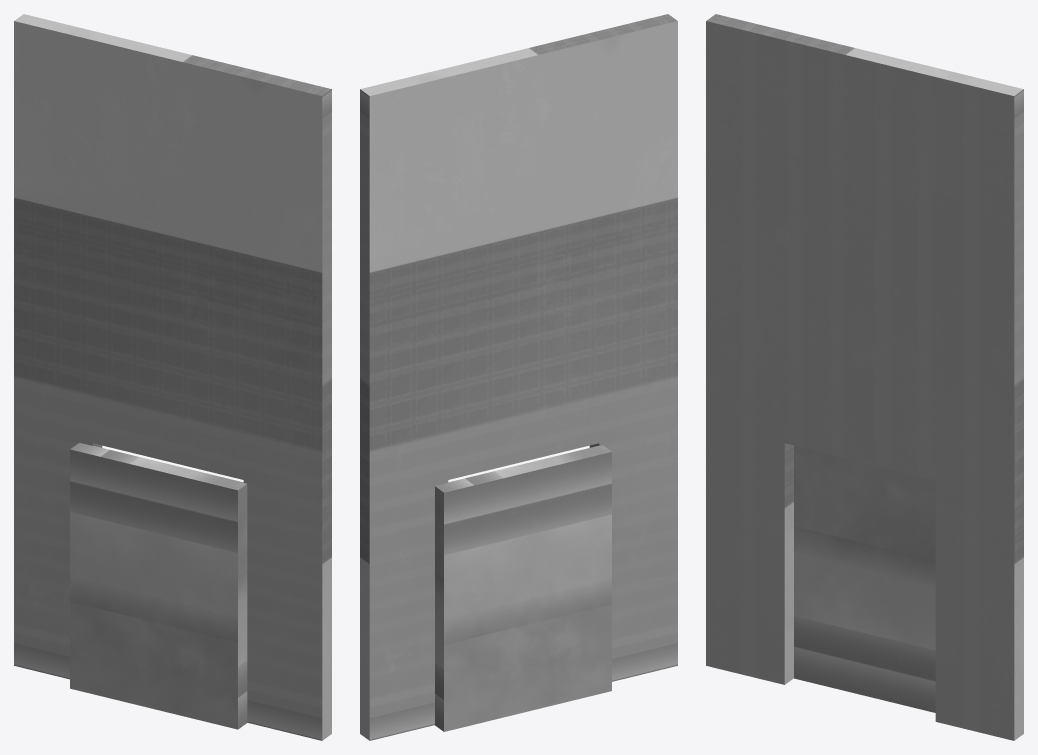
File: slantedWallDoor.fbx
3 renders of one model, left to right at view 1: azimuth 90°, elevation 25°; view 2: azimuth 150°, elevation 25°; view 3: azimuth 270°, elevation 25°, orthographic.
Visible parts, largest first — view 1: pCube68; view 2: pCube68; view 3: pCube68.
Part boxes in pixels (left/top/right/bottom): pCube68: left=14, top=14, right=331, bottom=740; pCube68: left=360, top=14, right=677, bottom=740; pCube68: left=706, top=14, right=1023, bottom=740.
Bounding box in the file's own units: 438 × 1601 × 714.
